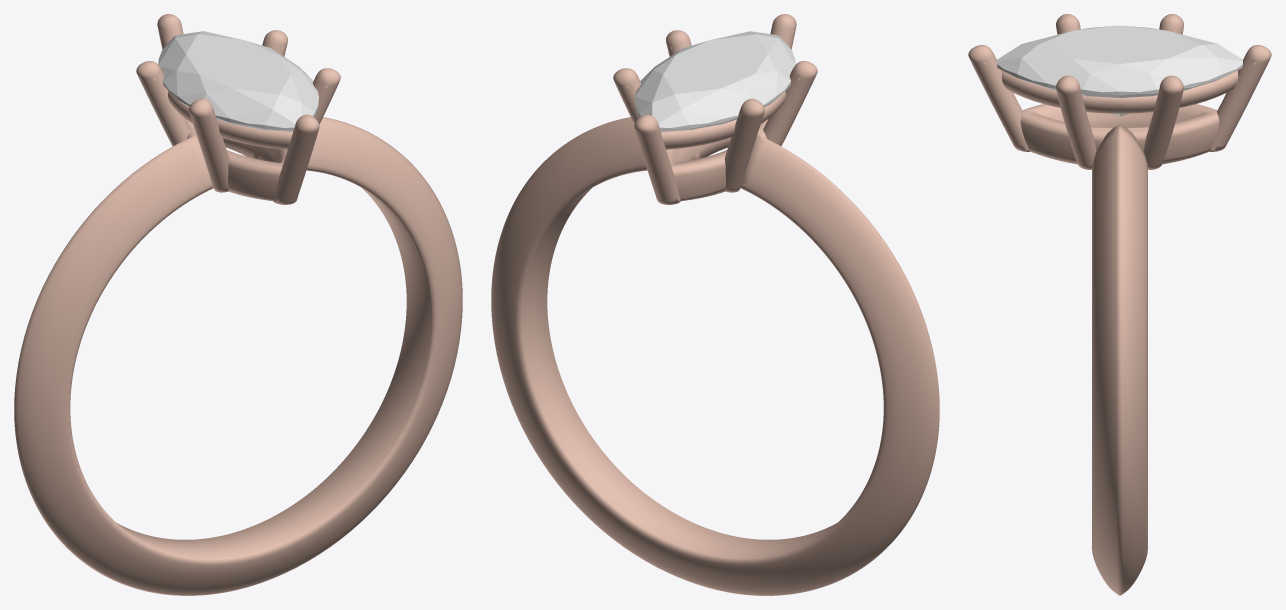
File: diamond-marquise-rosegold-6prong-knifeedge-nosidestones.glb
3 views of the same model, side by side, from view 1: azimuth 30°, elevation 25°; view 2: azimuth 150°, elevation 25°; view 3: azimuth 270°, elevation 25° (orthographic).
Parts seen in each view (by area): view 1: metal.004, stone; view 2: metal.004, stone; view 3: metal.004, stone.
Boxes of the visible parts, box(x1,y1,x2,y2) form: metal.004: box(14, 14, 462, 595); stone: box(158, 31, 318, 131); metal.004: box(491, 14, 939, 595); stone: box(635, 31, 795, 131); metal.004: box(968, 14, 1271, 595); stone: box(997, 25, 1242, 116).
Size of the model in its own units: 20.49 by 22.93 by 11.96.
